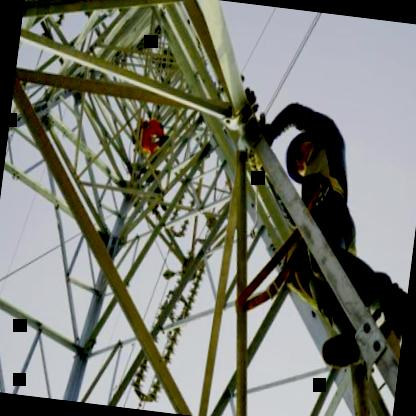helmet: (280, 126, 326, 184)
